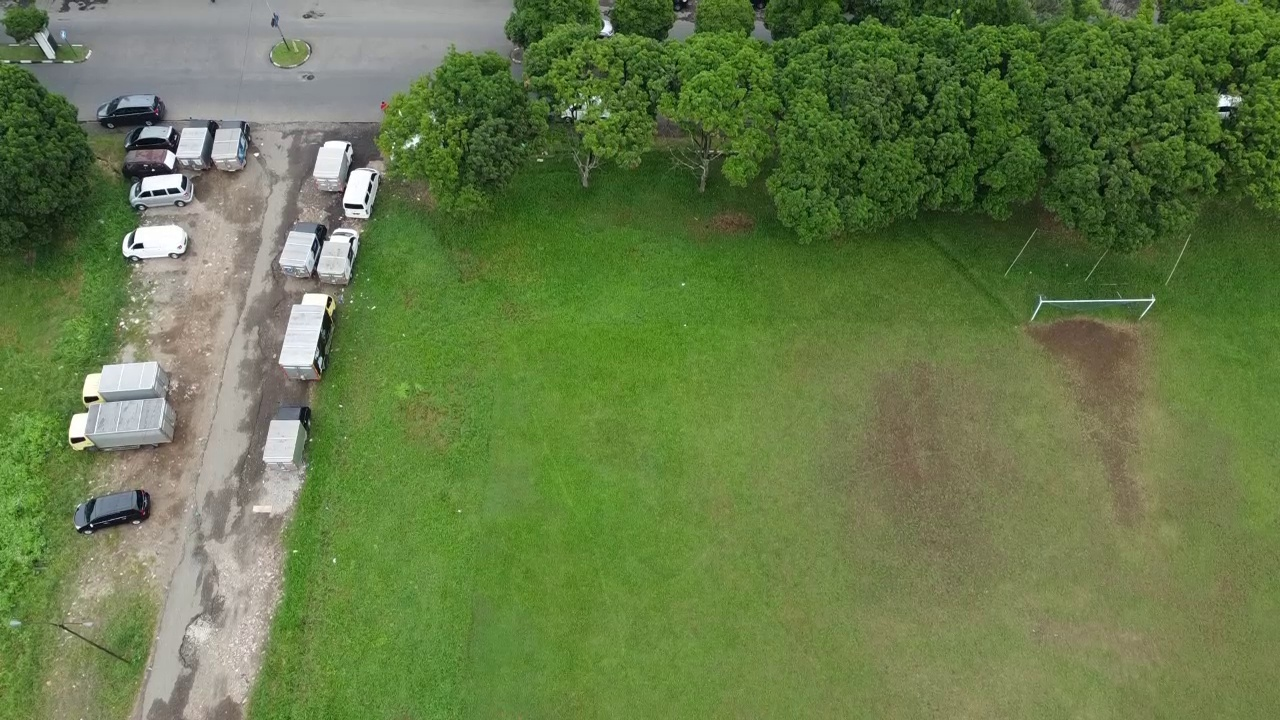mobil: (67, 489, 162, 536), (82, 90, 173, 130), (126, 172, 202, 214), (123, 222, 193, 265), (339, 160, 381, 228), (115, 143, 181, 181), (120, 120, 183, 156)
